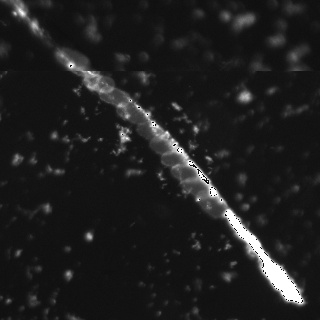embryo: (116, 100, 149, 126), (55, 48, 91, 71), (196, 189, 225, 217), (99, 86, 131, 107), (181, 177, 210, 200), (82, 75, 116, 94), (171, 163, 200, 183), (137, 122, 164, 142), (149, 137, 175, 156), (160, 151, 190, 167)
